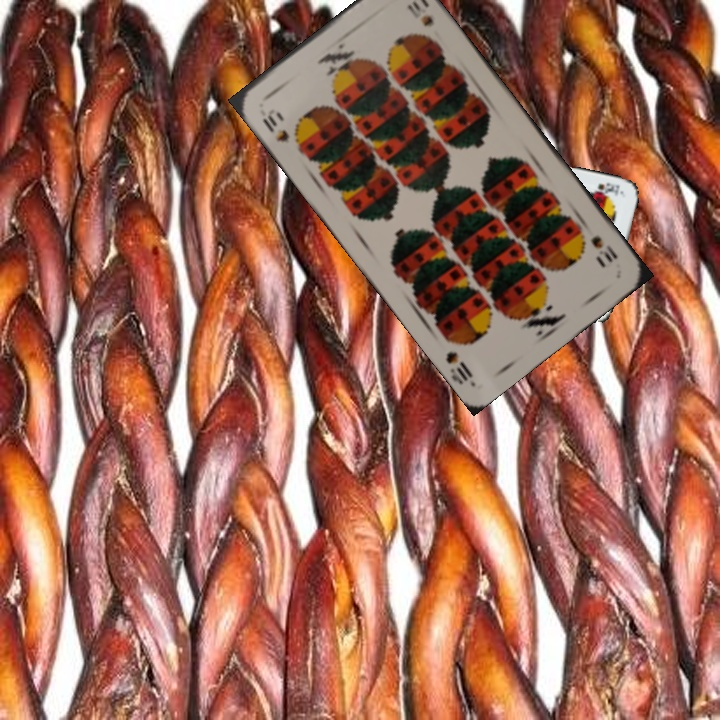S10: (258, 104, 292, 145), (586, 231, 621, 268)
SK: (591, 178, 622, 199)
